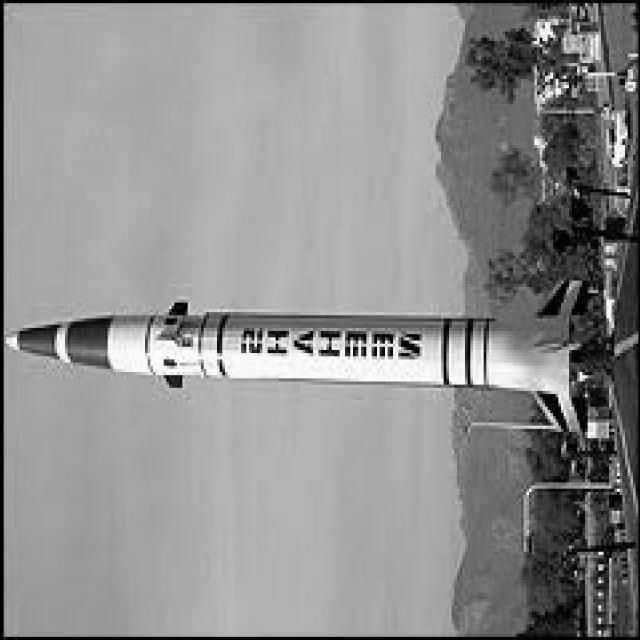missile: (11, 293, 576, 412)
